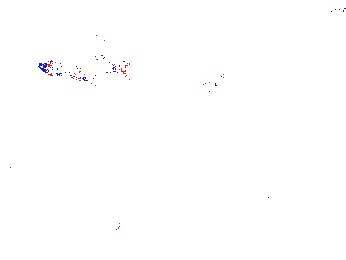redtail glassfish: (36, 54, 133, 83), (171, 70, 228, 111)
